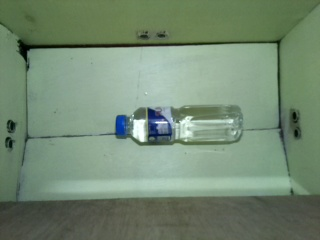bottle: (114, 104, 246, 147)
